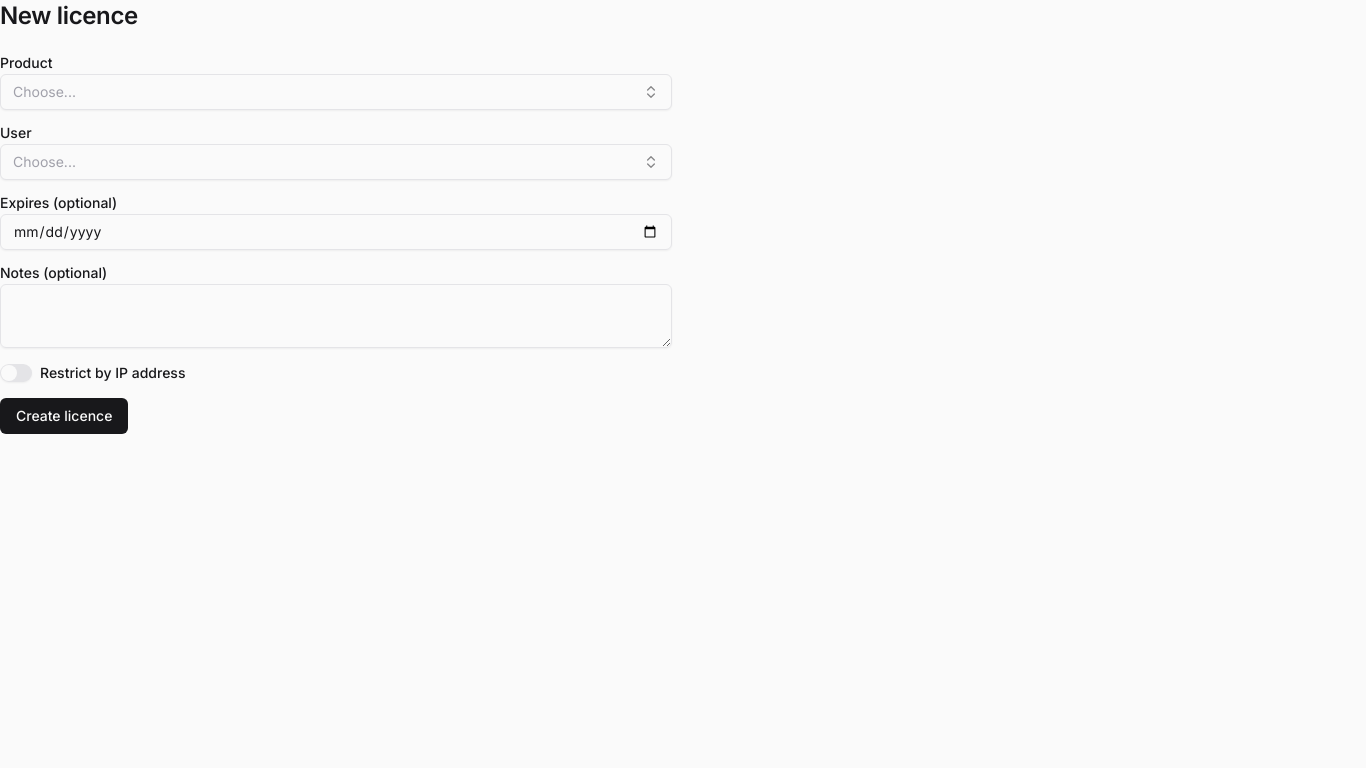
Test: NewLicencePage › opens the quick-create product dialog from the product combobox footer and auto-selects the new product
Expected: the button "Create licence" is shown, [0,398,128,434]
Click the dropdown labelled "Choose..." below "Product": click(44, 92) [0,74,672,110]
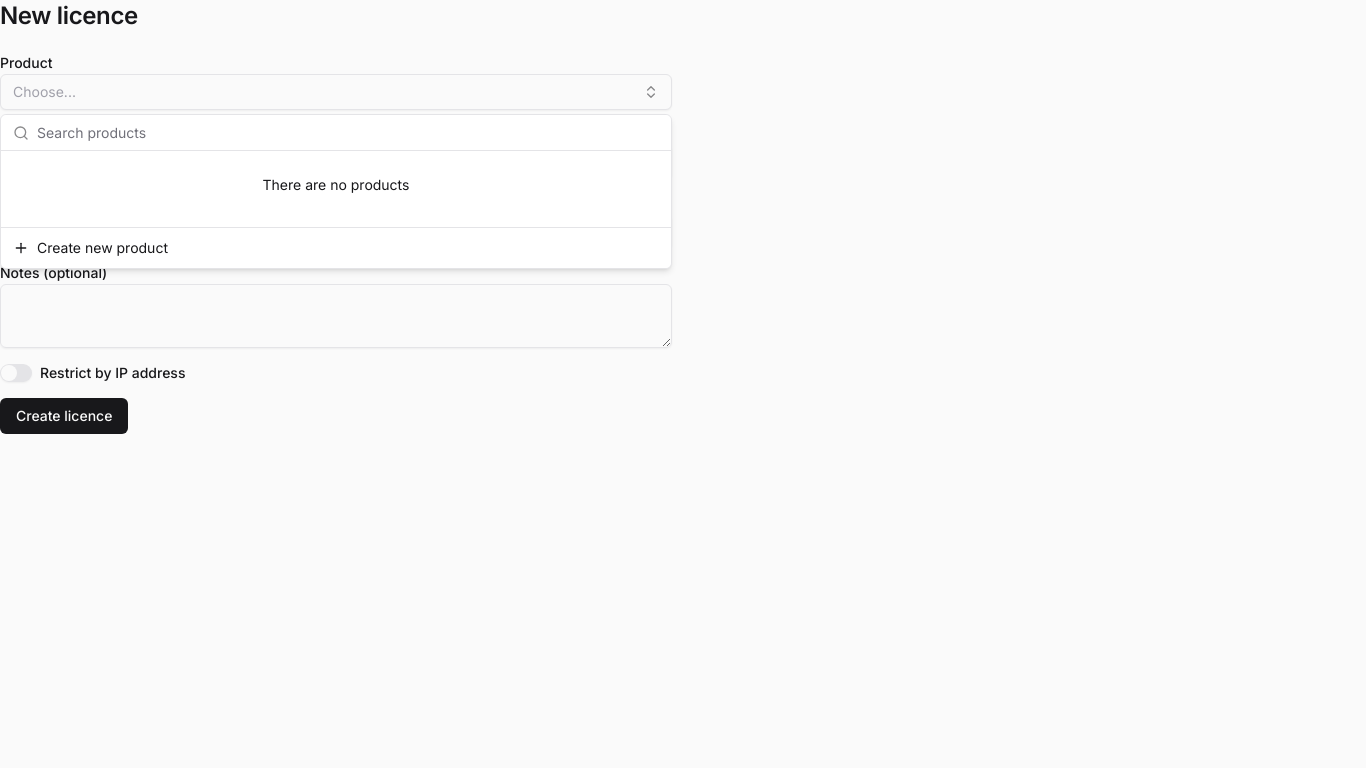
Click the button "Create new product": click(102, 248) [5,232,667,264]
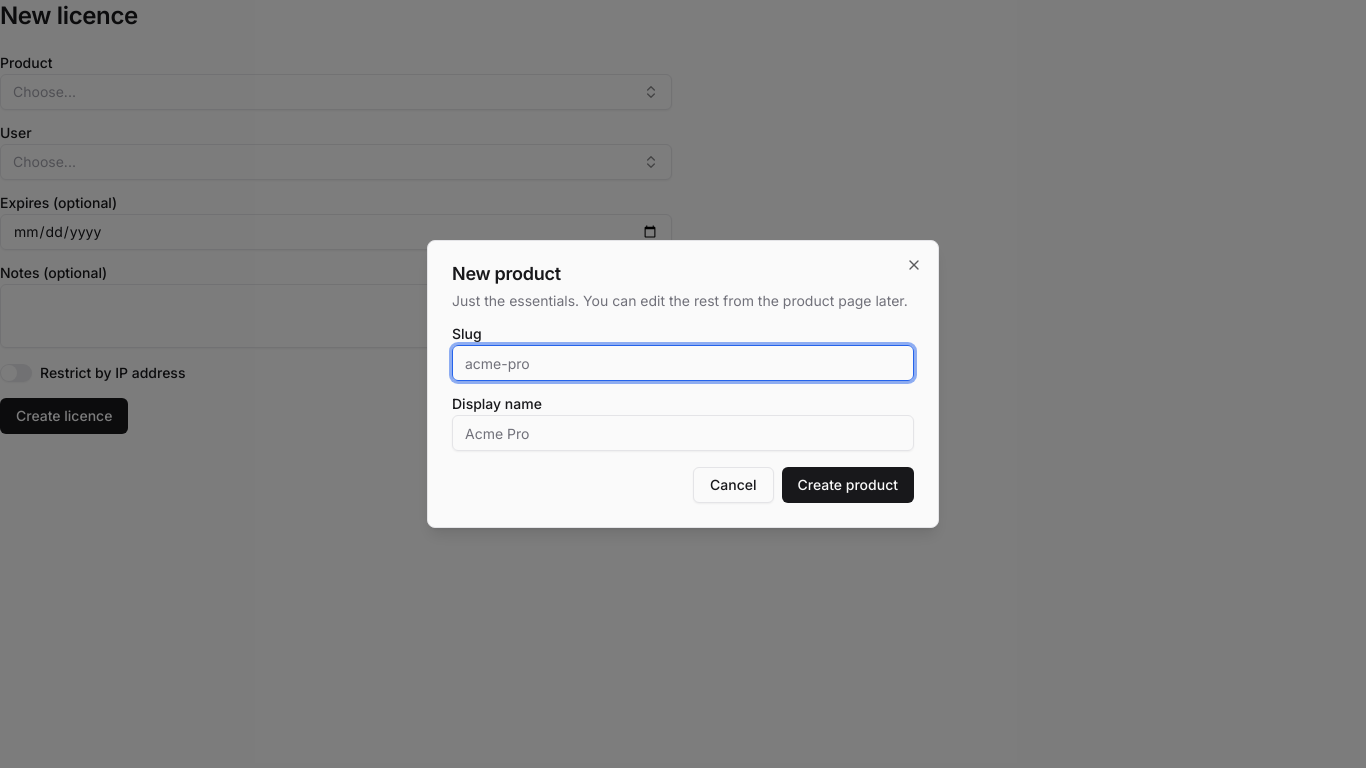
In the field labelled "Slug": (683, 363) [452,345,914,381], type "fresh"
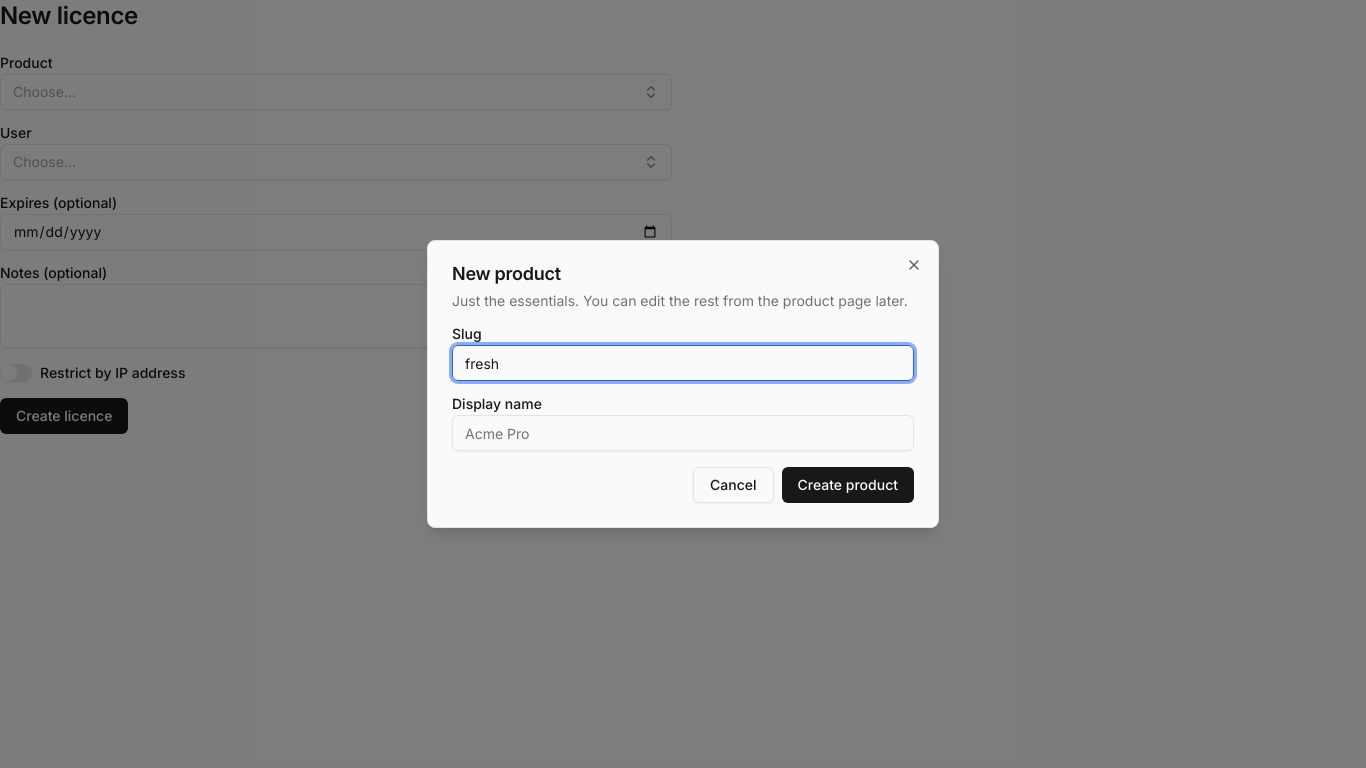
In the field labelled "Display name": (683, 433) [452,415,914,451], type "Fresh Product"
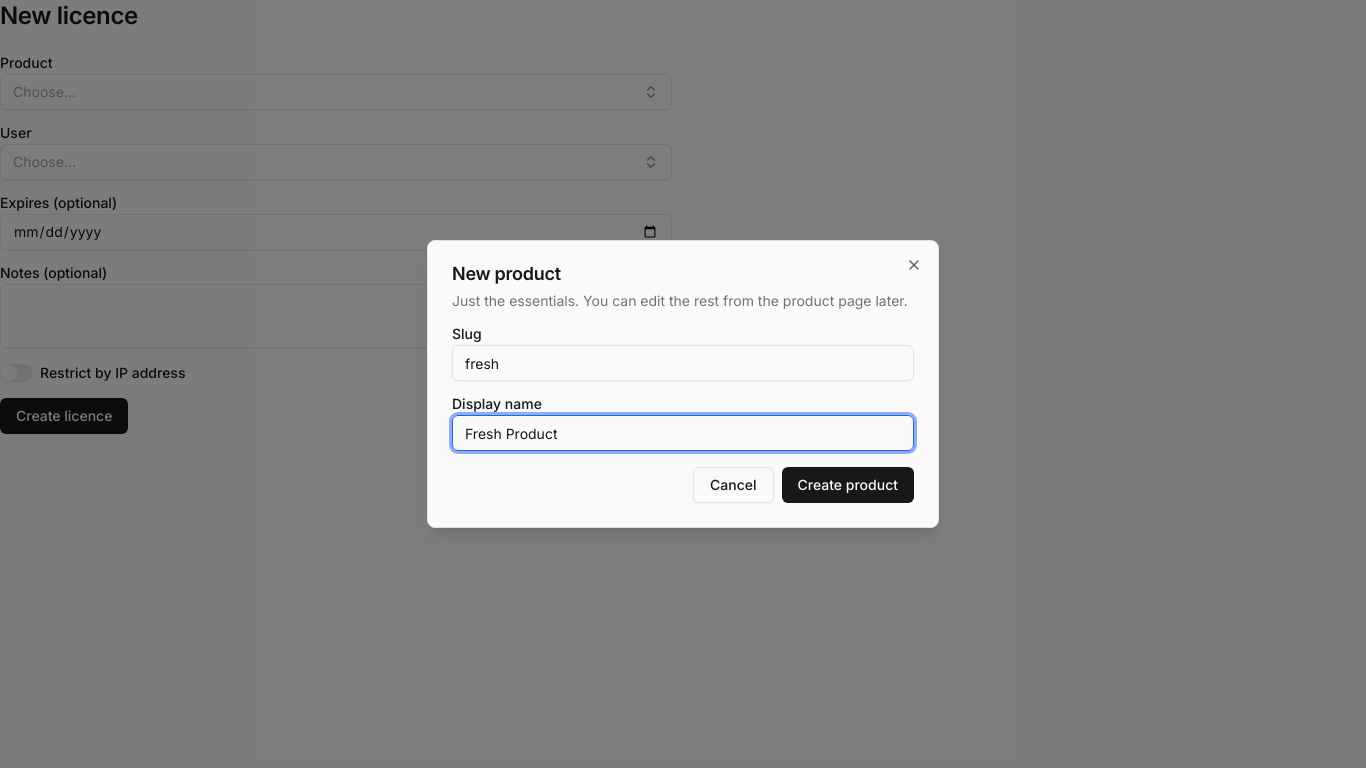
Click the button "Create product": click(848, 485) [782,467,914,503]
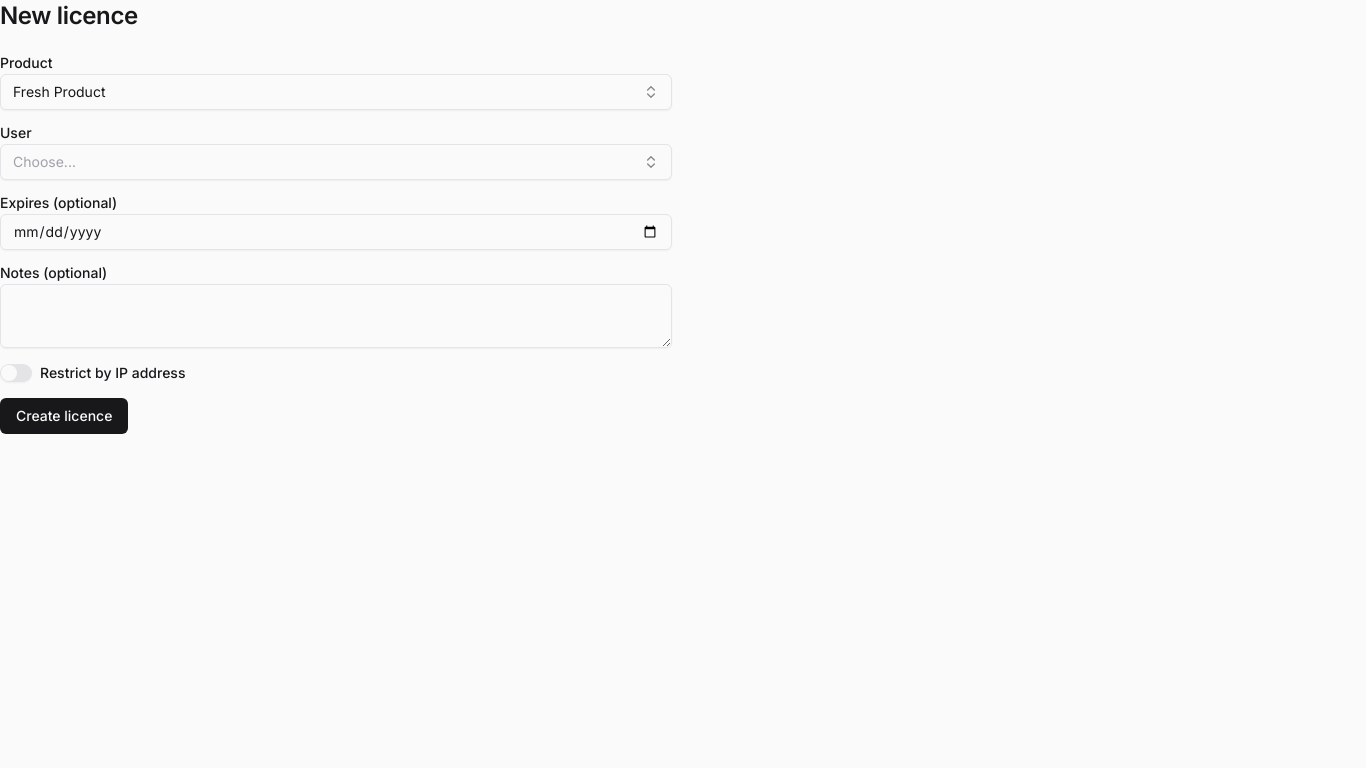
Now the dropdown labelled "Fresh Product" is shown, box [0,74,672,110]
